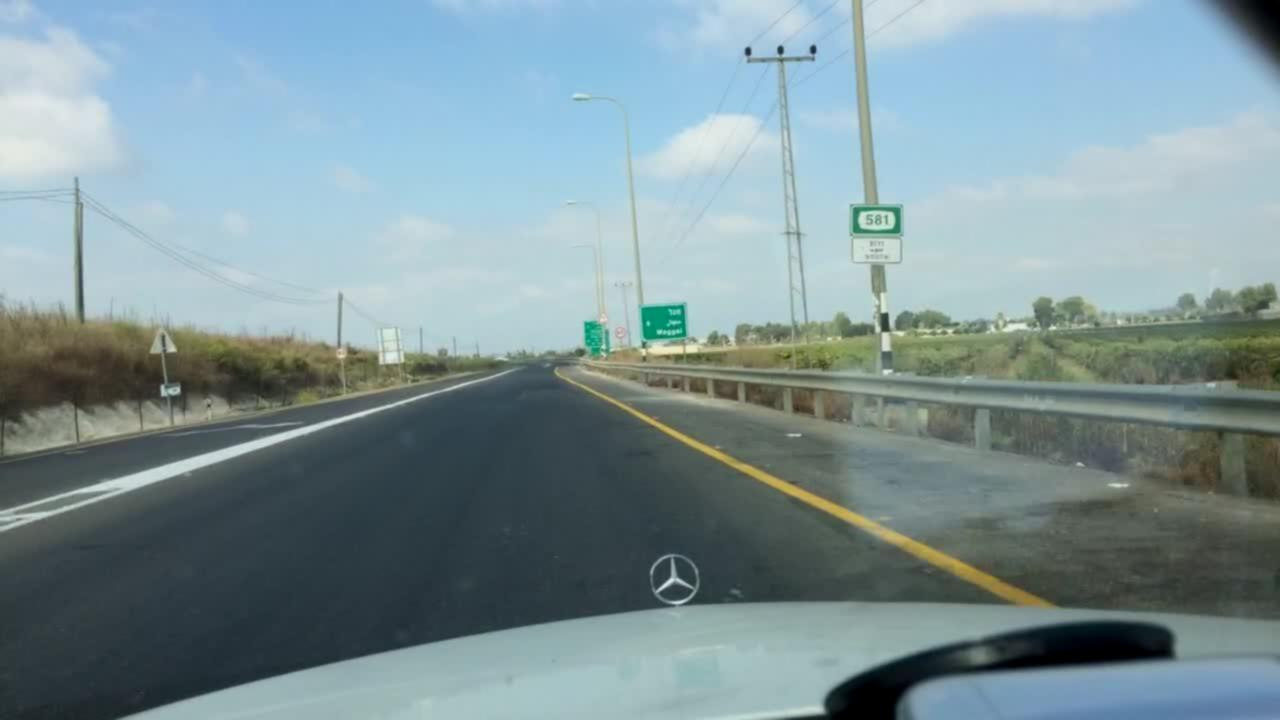Mercedes: (637, 553, 719, 608)
